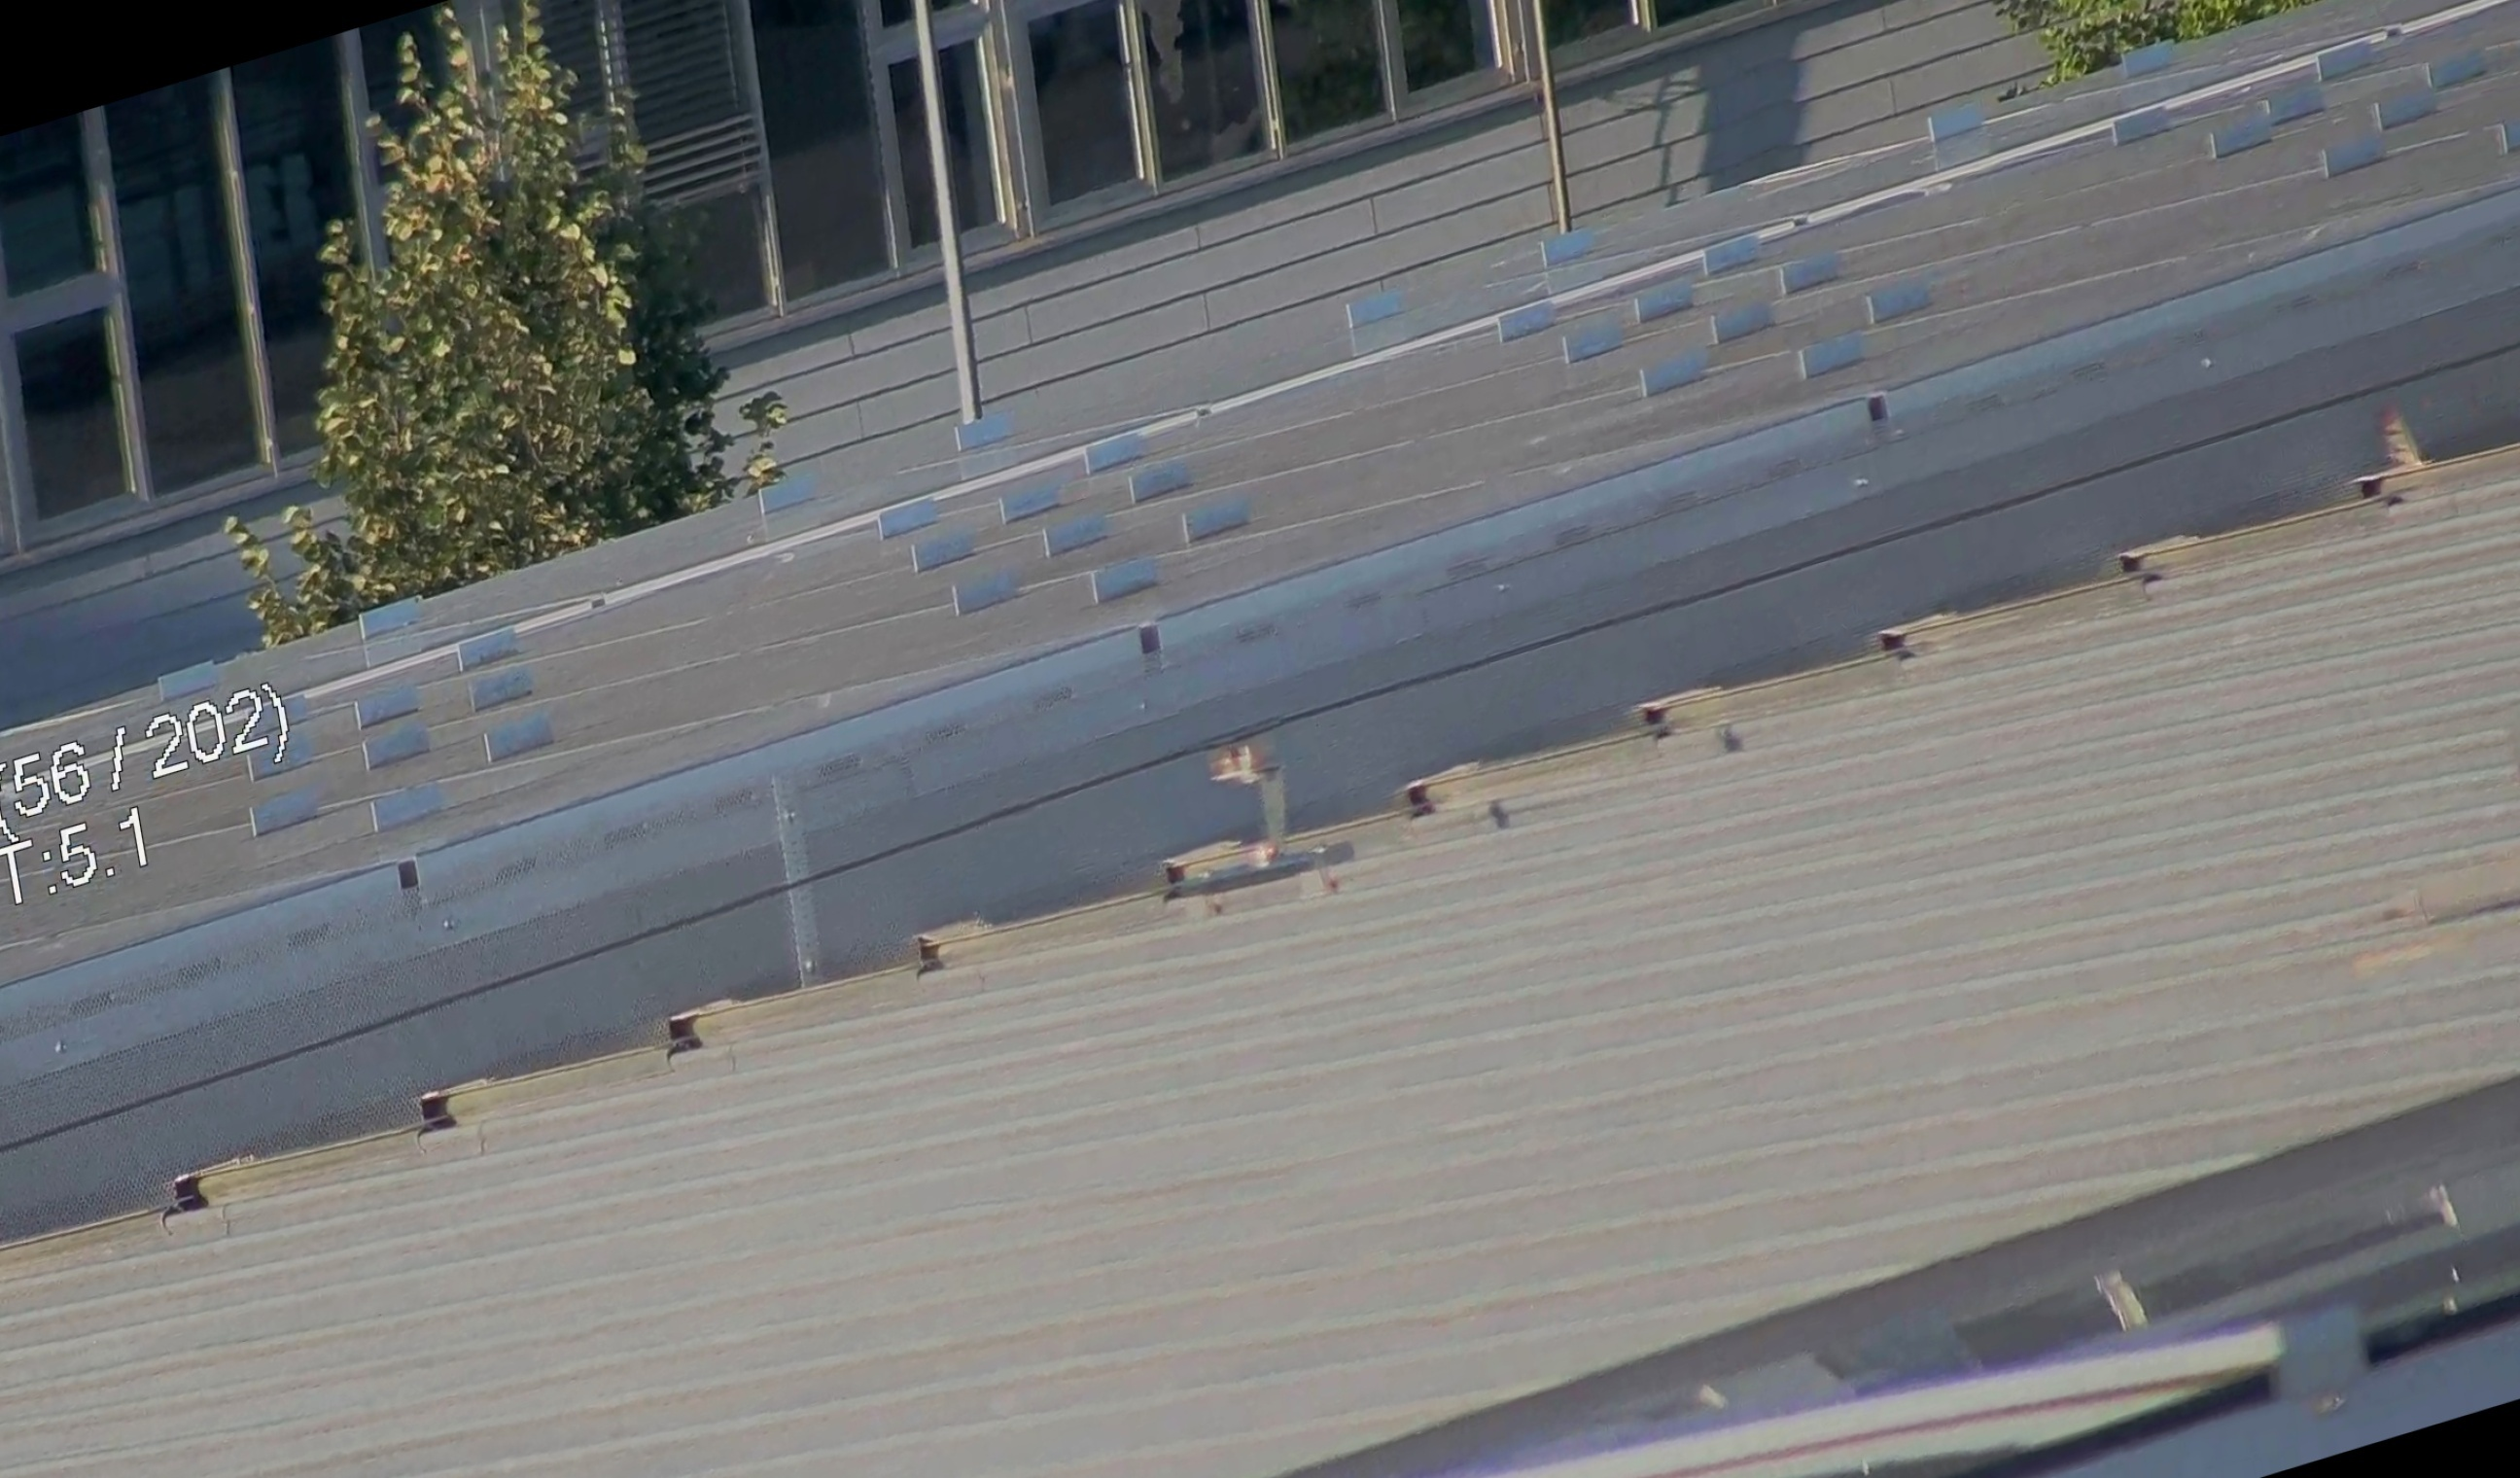Other: (2344, 382, 2458, 514)
